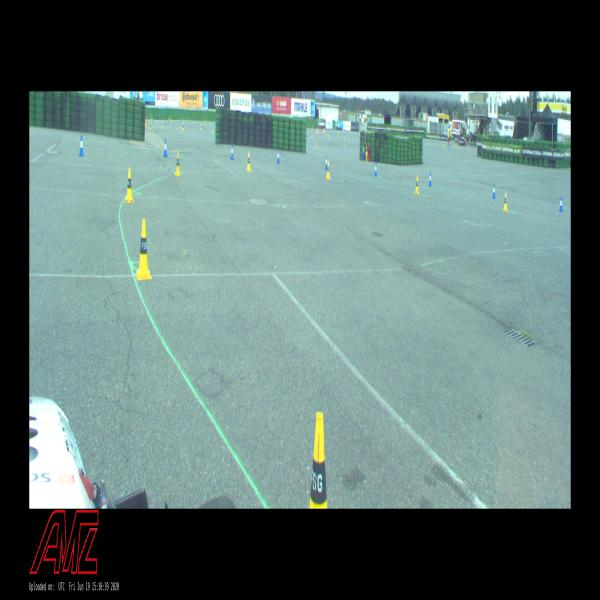blue_cone: (79, 134, 84, 156), (163, 138, 168, 157), (230, 143, 234, 160), (559, 196, 563, 212), (492, 183, 496, 199), (276, 150, 280, 164), (428, 172, 432, 186), (374, 162, 377, 176), (325, 155, 328, 168), (362, 146, 364, 155), (306, 133, 308, 138), (203, 123, 204, 128)
large_orange_cone: (317, 128, 319, 136), (316, 128, 317, 136), (323, 128, 324, 135), (324, 128, 325, 135)
orange_cone: (314, 140, 314, 146)
yellow_cone: (310, 413, 328, 508), (135, 220, 151, 278), (125, 168, 134, 204), (175, 152, 181, 176), (246, 153, 251, 172), (503, 193, 508, 211), (415, 176, 419, 194), (326, 161, 330, 179), (365, 146, 368, 155), (316, 139, 318, 146), (200, 124, 202, 130), (180, 122, 182, 128), (149, 124, 151, 130), (162, 120, 163, 128), (212, 127, 213, 133), (183, 124, 184, 130), (311, 134, 312, 138)
